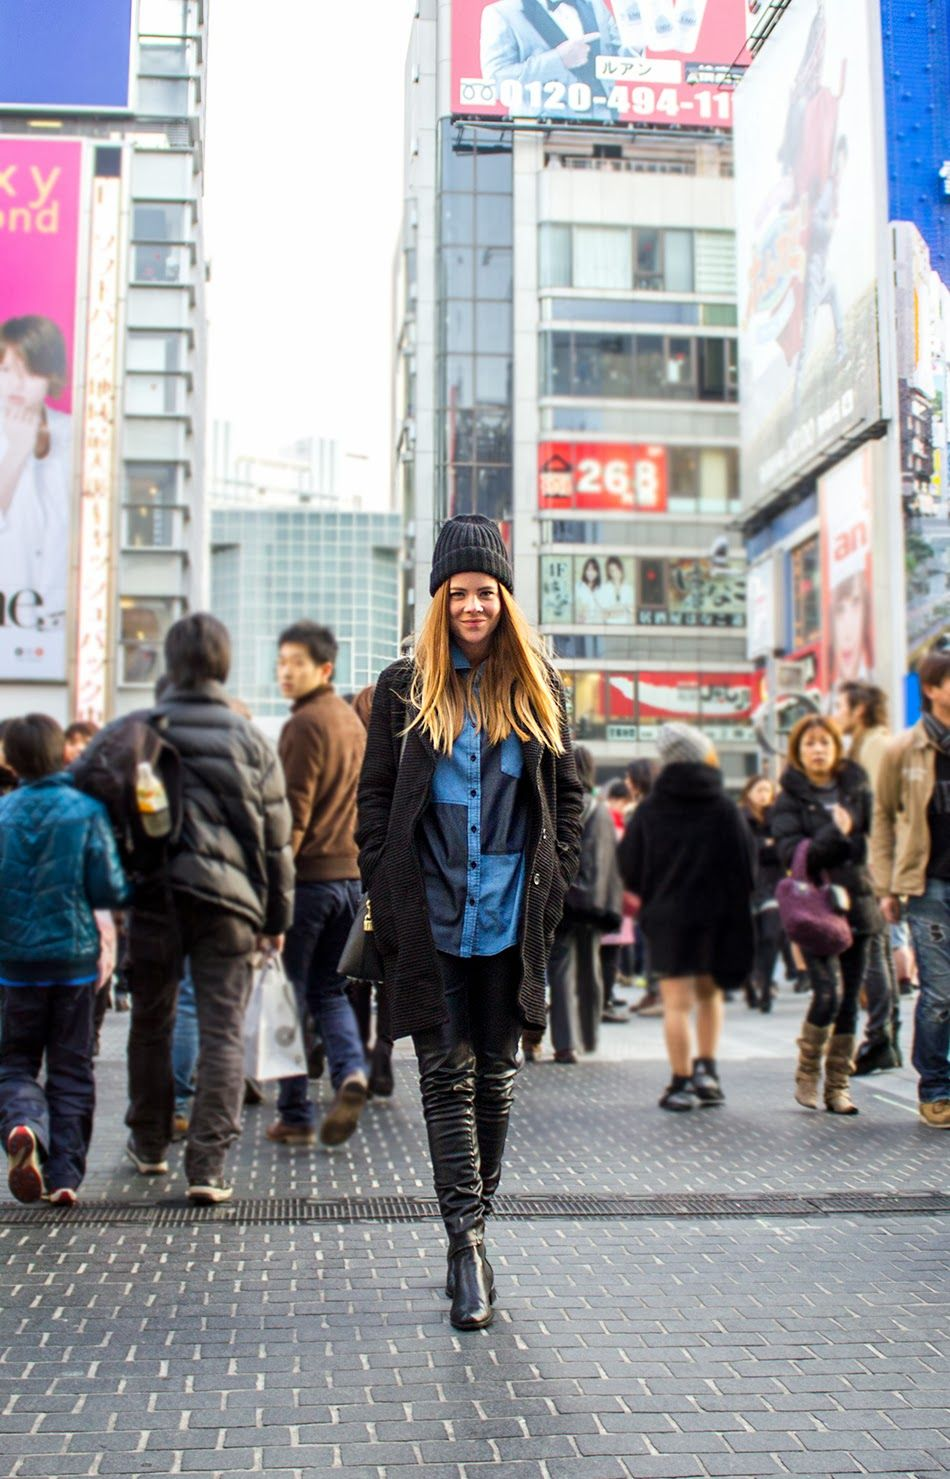person: (368, 507, 574, 1350), (79, 603, 289, 1213), (253, 618, 385, 1143), (740, 707, 891, 1133), (1, 707, 119, 1209), (623, 716, 757, 1128), (887, 636, 948, 1165), (830, 679, 892, 752)
